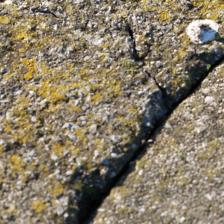Crack: (65, 60, 222, 221)
